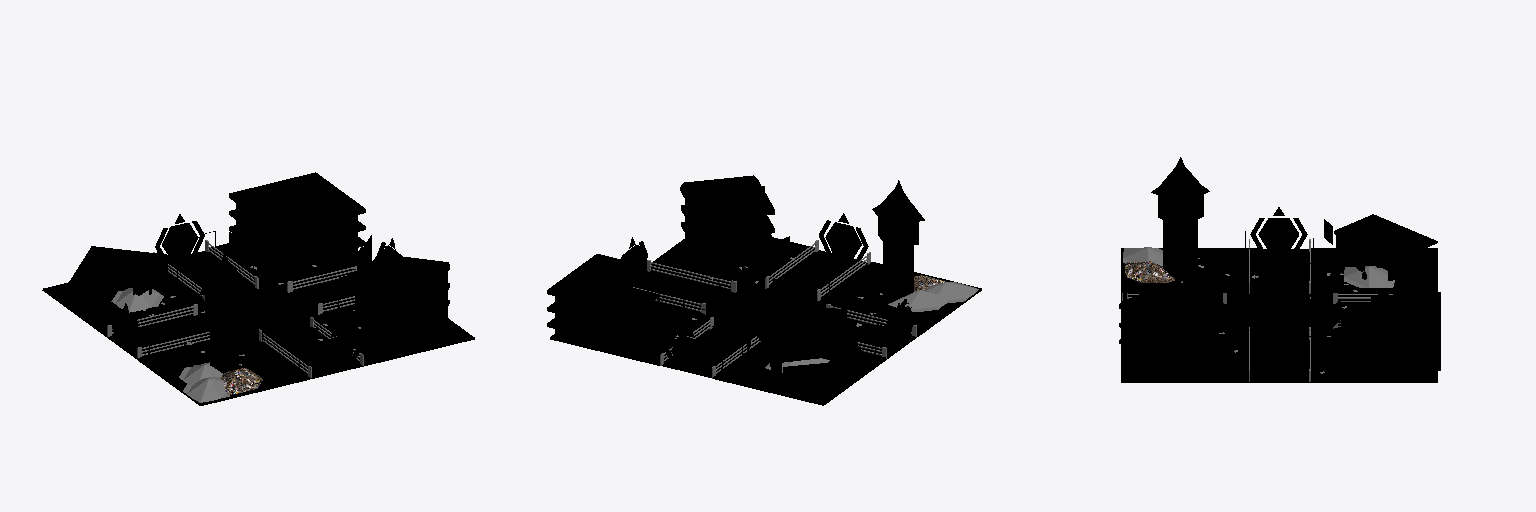
3 views of the same model, side by side, from view 1: azimuth 30°, elevation 25°; view 2: azimuth 150°, elevation 25°; view 3: azimuth 270°, elevation 25° (orthographic).
Parts seen in each view (by area): view 1: Road1, Square_Building1, Traffic_Cone5, polySurface58 Pavement3, Gas_Station_Roof1, Clock_Tower, polySurface58 Pavement1, polySurface58 Pavement2, Pavement polySurface58, Laser_Fence1:modelPanel3ViewSelectedSet Laser_Fence1:pCube59 Las, L_shape_Building_Logo, Portal5 (+6 smaller); view 2: Road1, Traffic_Cone5, Gas_Station_Roof1, Square_Building1, Clock_Tower, polySurface58 Pavement2, polySurface58 Pavement3, Pavement polySurface58, Palm_Springs_Logo, polySurface58 Pavement1, Laser_Fence1:modelPanel3ViewSelectedSet Laser_Fence1:pCube59 Las, Gas_Station_Building1 (+7 smaller); view 3: Square_Building1, Road1, Traffic_Cone5, Clock_Tower, Gas_Station_Roof1, polySurface58 Pavement2, Pavement polySurface58, polySurface58 Pavement3, polySurface58 Pavement1, Portal2, Portal3, Palm_Springs_Logo (+3 smaller).
Boxes of the visible parts, <box> form: Road1: <box>42,251,473,405</box>; Square_Building1: <box>354,254,449,348</box>; Traffic_Cone5: <box>229,172,365,263</box>; polySurface58 Pavement3: <box>137,336,309,405</box>; Gas_Station_Roof1: <box>68,246,172,313</box>; Clock_Tower: <box>199,252,248,373</box>; polySurface58 Pavement1: <box>209,243,356,291</box>; polySurface58 Pavement2: <box>314,305,474,365</box>; Pavement polySurface58: <box>43,277,204,335</box>; Laser_Fence1:modelPanel3ViewSelectedSet Laser_Fence1:pCube59 Las: <box>107,240,363,377</box>; L_shape_Building_Logo: <box>283,191,305,256</box>; Portal5: <box>311,327,360,374</box>; Road1: <box>635,250,918,405</box>; Traffic_Cone5: <box>547,254,657,355</box>; Gas_Station_Roof1: <box>753,314,861,384</box>; Square_Building1: <box>680,175,774,267</box>; Clock_Tower: <box>872,180,924,302</box>; polySurface58 Pavement2: <box>651,237,814,291</box>; polySurface58 Pavement3: <box>819,262,981,335</box>; Pavement polySurface58: <box>713,343,885,405</box>; Palm_Springs_Logo: <box>709,186,764,226</box>; polySurface58 Pavement1: <box>550,301,709,365</box>; Laser_Fence1:modelPanel3ViewSelectedSet Laser_Fence1:pCube59 Las: <box>633,240,886,378</box>; Gas_Station_Building1: <box>783,362,838,393</box>; Square_Building1: <box>1119,281,1228,380</box>; Road1: <box>1121,249,1392,382</box>; Traffic_Cone5: <box>1341,291,1440,379</box>; Clock_Tower: <box>1151,157,1209,280</box>; Gas_Station_Roof1: <box>1334,214,1437,279</box>; polySurface58 Pavement2: <box>1121,328,1247,382</box>; Pavement polySurface58: <box>1311,248,1437,302</box>; polySurface58 Pavement3: <box>1121,248,1247,301</box>; polySurface58 Pavement1: <box>1311,328,1437,382</box>; Portal2: <box>1250,337,1307,380</box>; Portal3: <box>1250,207,1307,250</box>; Palm_Springs_Logo: <box>1183,260,1222,302</box>.
Size of the model in its own units: 24.65 by 10.03 by 24.41.
Materials: 31 (1 with a texture image).